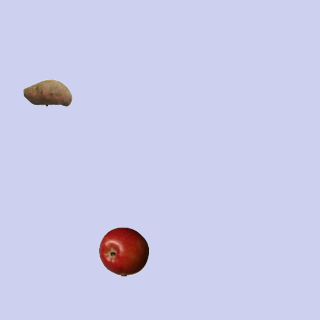Apple Braeburn: (98, 226, 148, 276)
Potato Sweet: (22, 67, 72, 117)
